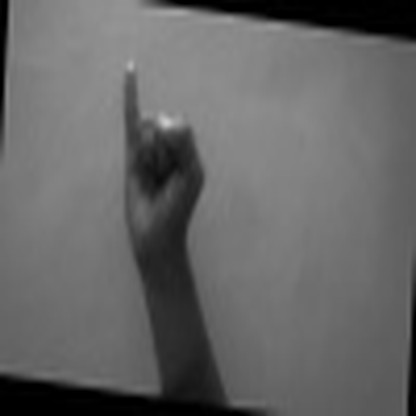i: (99, 40, 212, 265)
